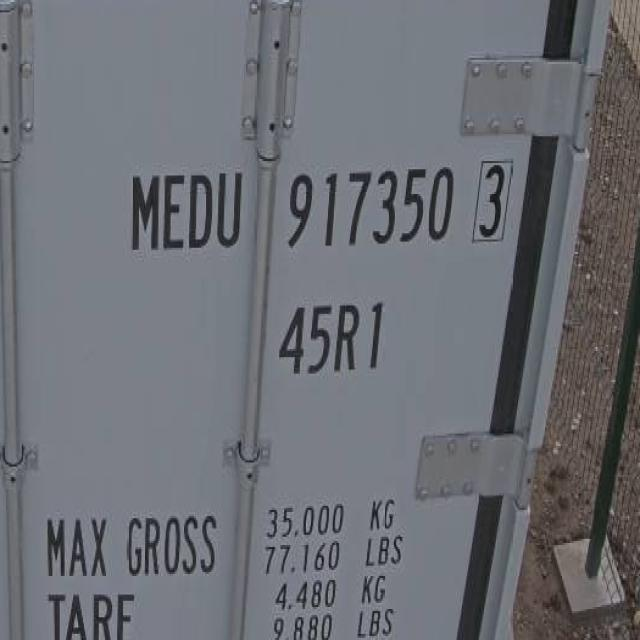dv: (470, 153, 514, 250)
owner: (120, 158, 251, 260)
serial: (280, 156, 460, 265)
size: (275, 293, 387, 386)
